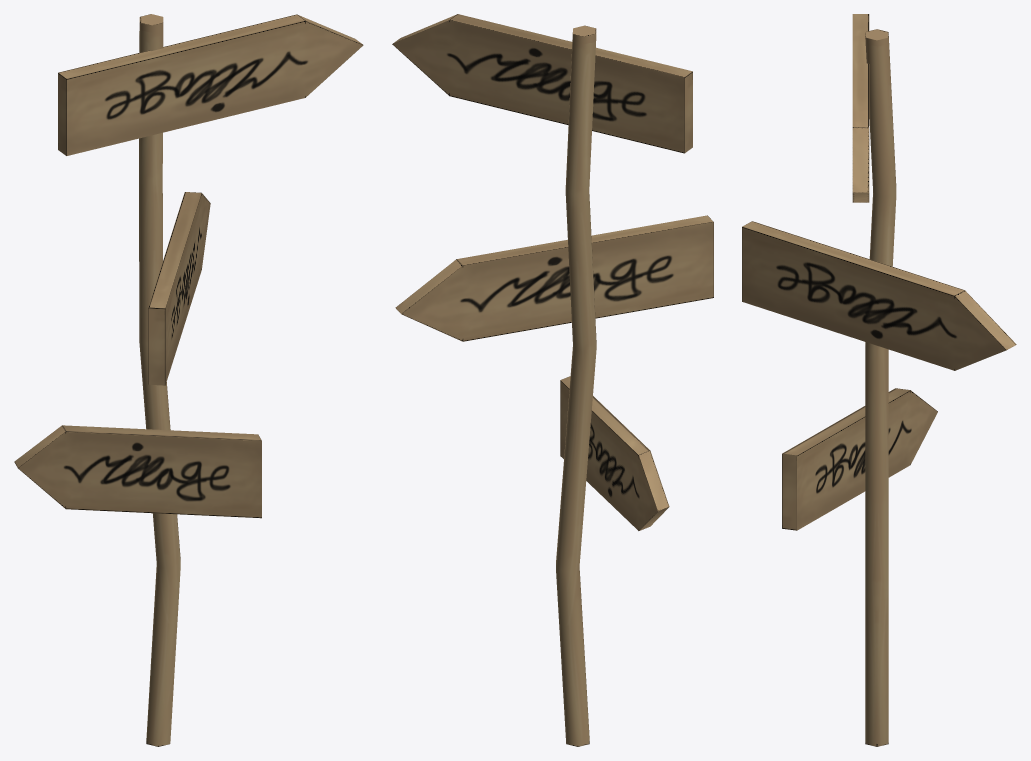
File: 이정표.fbx
The picture shows the model from 3 angles, left to right: view 1: azimuth 30°, elevation 25°; view 2: azimuth 150°, elevation 25°; view 3: azimuth 270°, elevation 25°; orthographic projection. The views are drawn at different scales.
Parts seen in each view (by area): view 1: signpost; view 2: signpost; view 3: signpost.
Part boxes in pixels (x1,y1,x2,y2): signpost: (14, 14, 363, 746); signpost: (392, 14, 713, 746); signpost: (742, 14, 1016, 746).
Size of the model in its own units: 47.71 by 106 by 37.7.
